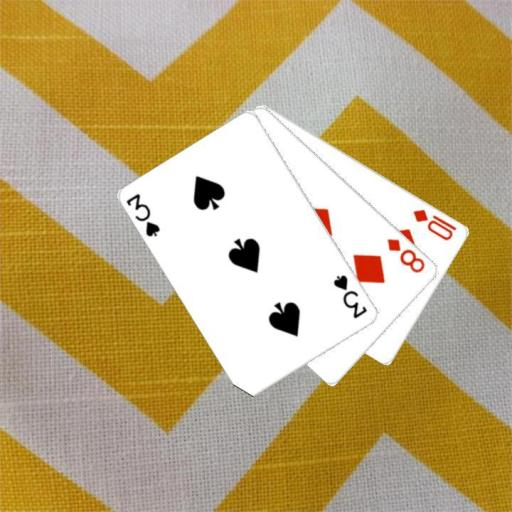10D: (410, 205, 459, 242)
3S: (330, 272, 369, 320), (124, 191, 162, 239)
8D: (384, 236, 427, 275)
